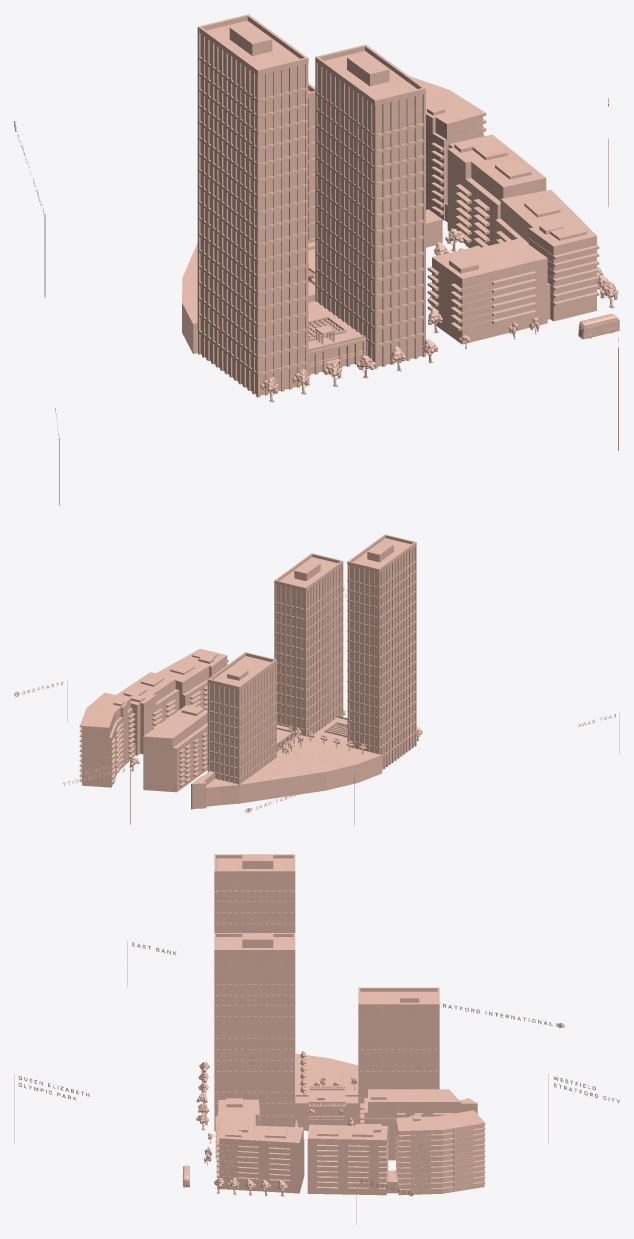
The model's file is CMS14.gltf.
3 views of the same model, one above another, from view 1: azimuth 30°, elevation 25°; view 2: azimuth 150°, elevation 25°; view 3: azimuth 270°, elevation 25° (orthographic). The views are drawn at different scales.
Parts seen in each view (by area): view 1: Xavier, Bussell, Hows, Sandhu, Base, Tree, Harrison, Bus; view 2: Xavier, Bussell, Harrison, Sandhu, Base, Aarons, Hows, Tree; view 3: Bussell, Sandhu, Harrison, Hows, Xavier, Base, Aarons, Tree.
Boxes of the visible parts, <box> form: Xavier: <box>197,14,308,397</box>; Bussell: <box>315,44,425,368</box>; Hows: <box>427,189,599,344</box>; Sandhu: <box>409,76,546,247</box>; Base: <box>182,241,366,376</box>; Tree: <box>260,228,618,402</box>; Harrison: <box>308,83,315,242</box>; Bus: <box>578,314,619,339</box>; Xavier: <box>347,534,416,770</box>; Bussell: <box>274,553,343,737</box>; Harrison: <box>191,652,276,809</box>; Sandhu: <box>79,672,179,787</box>; Base: <box>239,716,381,803</box>; Aarons: <box>143,705,207,792</box>; Hows: <box>156,648,228,710</box>; Tree: <box>129,709,422,771</box>; Bussell: <box>214,933,295,1131</box>; Sandhu: <box>307,1110,485,1195</box>; Harrison: <box>358,987,477,1123</box>; Hows: <box>215,1098,304,1193</box>; Xavier: <box>214,854,295,932</box>; Base: <box>295,1053,358,1131</box>; Aarons: <box>360,1089,460,1160</box>; Tree: <box>196,1051,357,1196</box>.
Bounding box in the file's own units: 308 × 129 × 313.
Materials: 1 (1 with a texture image).
